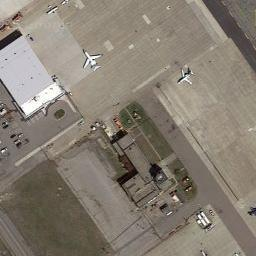plane: (78, 48, 107, 76)
